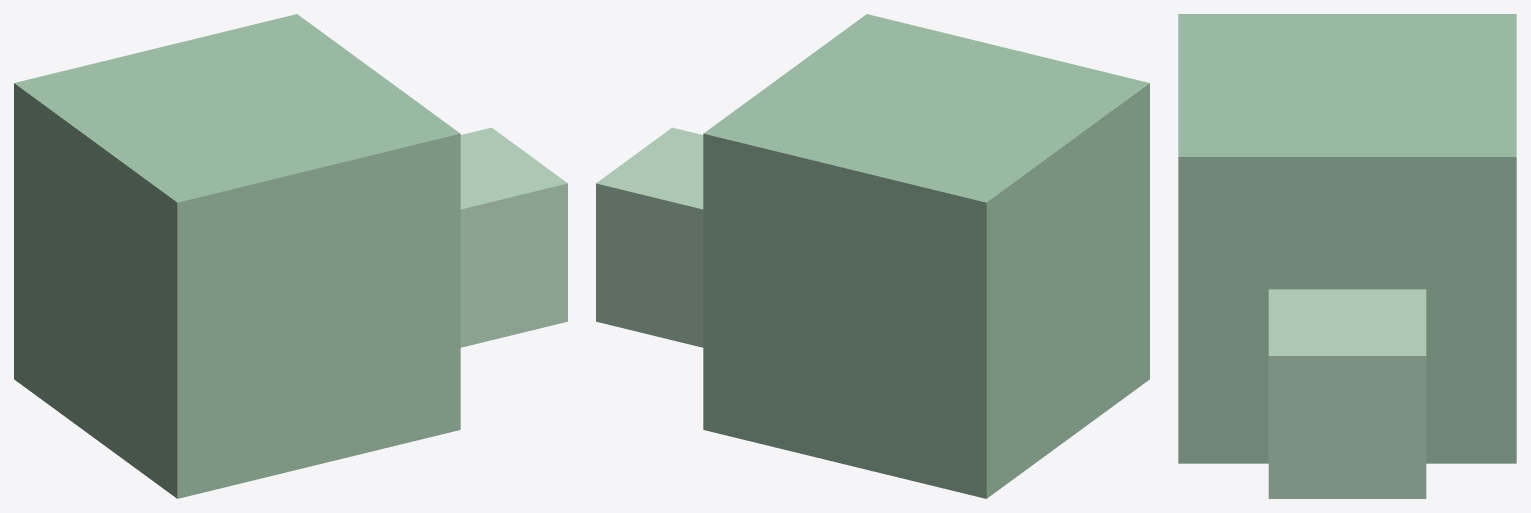
File: furniture.glb
The picture shows the model from 3 angles, left to right: view 1: azimuth 30°, elevation 25°; view 2: azimuth 150°, elevation 25°; view 3: azimuth 270°, elevation 25°; orthographic projection. The views are drawn at different scales.
Parts seen in each view (by area): view 1: furniture_shell, CHAIR_001; view 2: furniture_shell, CHAIR_001; view 3: furniture_shell, CHAIR_001.
Boxes of the visible parts, x1,y1,x2,y2 form: furniture_shell: [14, 14, 460, 498]; CHAIR_001: [460, 127, 567, 347]; furniture_shell: [703, 14, 1149, 498]; CHAIR_001: [596, 127, 703, 347]; furniture_shell: [1178, 14, 1516, 463]; CHAIR_001: [1268, 289, 1426, 498].
Size of the model in its own units: 2300 by 1500 by 1500.
